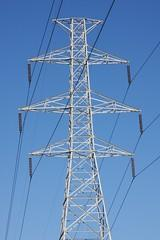power_tower: (22, 12, 145, 239)
